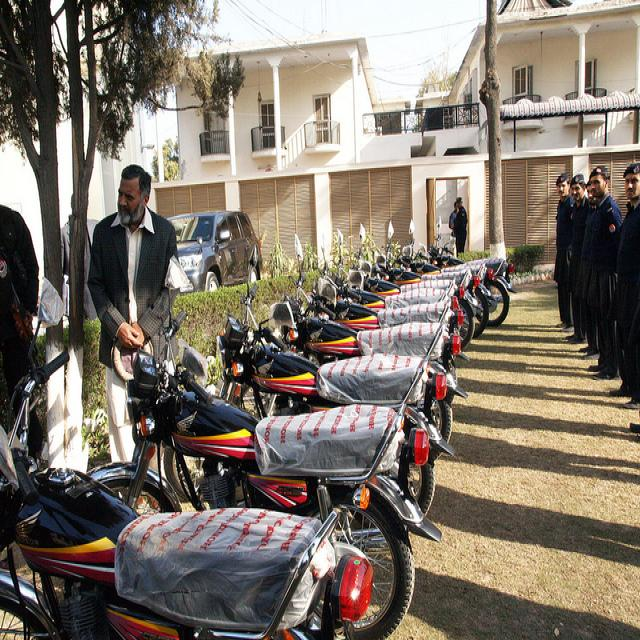motor: (0, 288, 375, 640), (76, 310, 437, 638), (214, 285, 469, 442), (274, 230, 467, 387), (348, 223, 477, 346), (308, 246, 465, 332), (371, 220, 479, 316), (331, 234, 458, 308), (428, 222, 515, 273), (444, 262, 496, 339), (483, 259, 515, 328)
